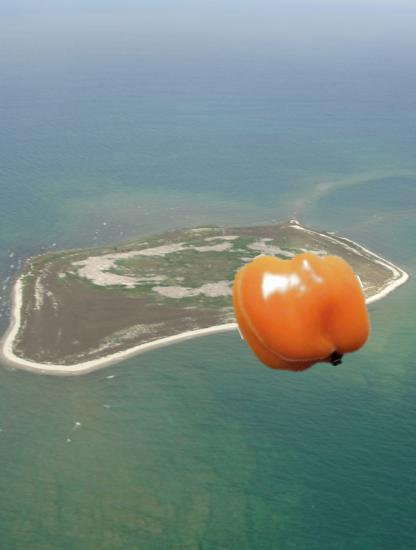Pepper: (235, 243, 368, 376)
